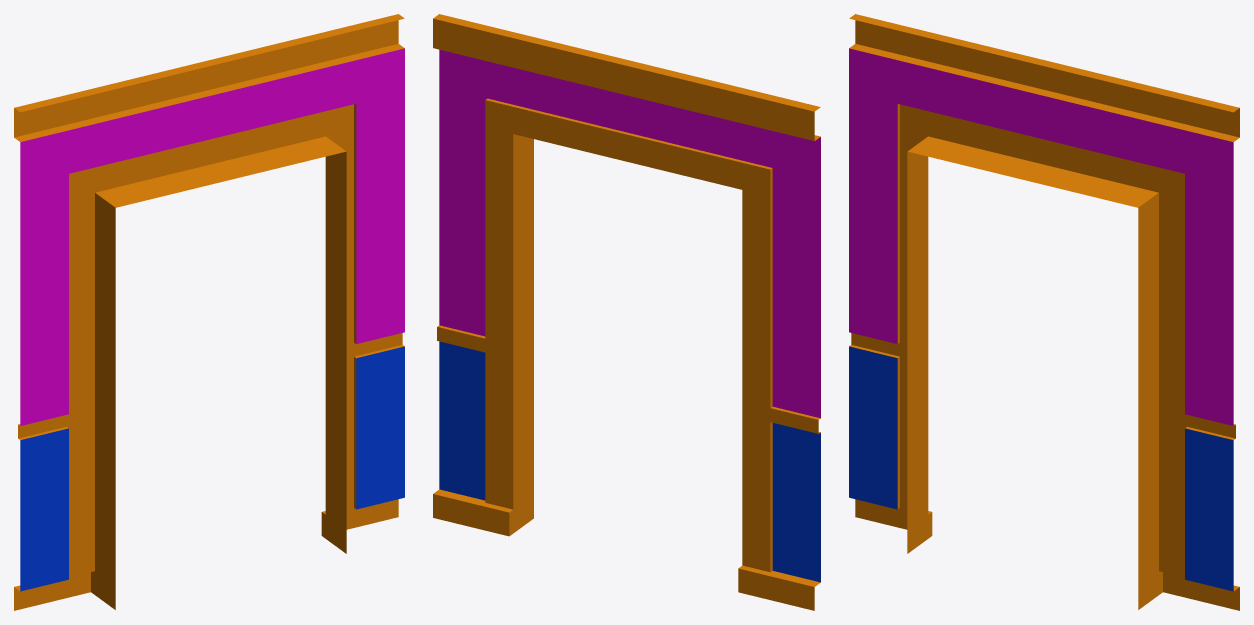
The model's file is Unit_Door.fbx.
The picture shows the model from 3 angles, left to right: view 1: azimuth 30°, elevation 25°; view 2: azimuth 150°, elevation 25°; view 3: azimuth 330°, elevation 25°; orthographic projection.
Parts seen in each view (by area): view 1: Unit_Door; view 2: Unit_Door; view 3: Unit_Door.
Boxes of the visible parts, x1,y1,x2,y2 form: Unit_Door: (14, 14, 404, 610); Unit_Door: (433, 14, 820, 610); Unit_Door: (849, 14, 1239, 610).
Size of the model in its own units: 2 by 2.5 by 0.2237.
